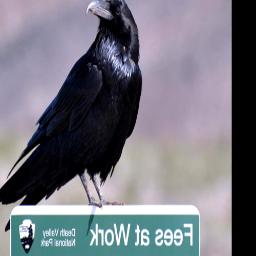Crow: (0, 0, 142, 235)
